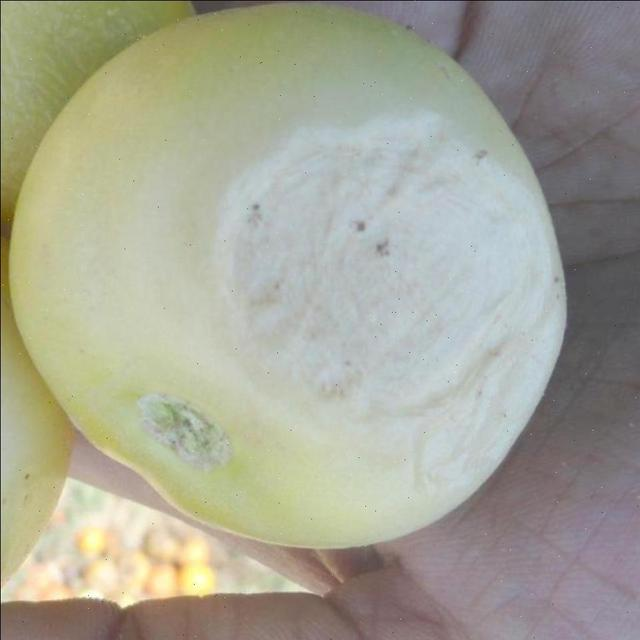Sunscald Fruit: (140, 82, 382, 332)
